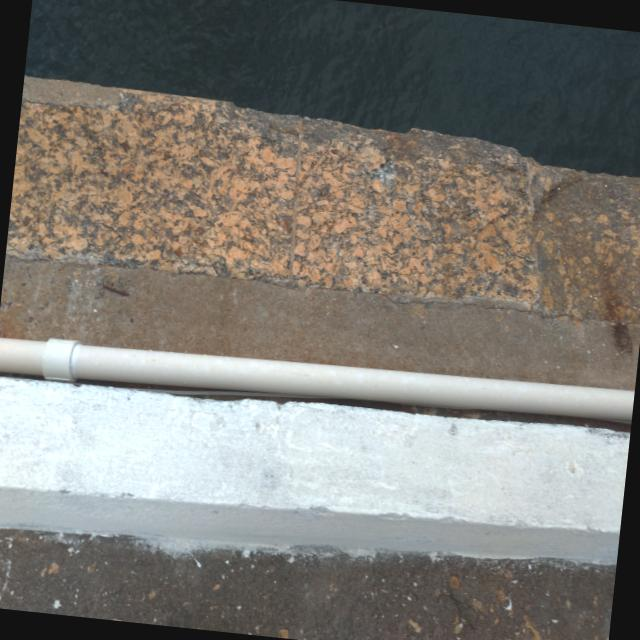gas: (0, 337, 633, 420)
